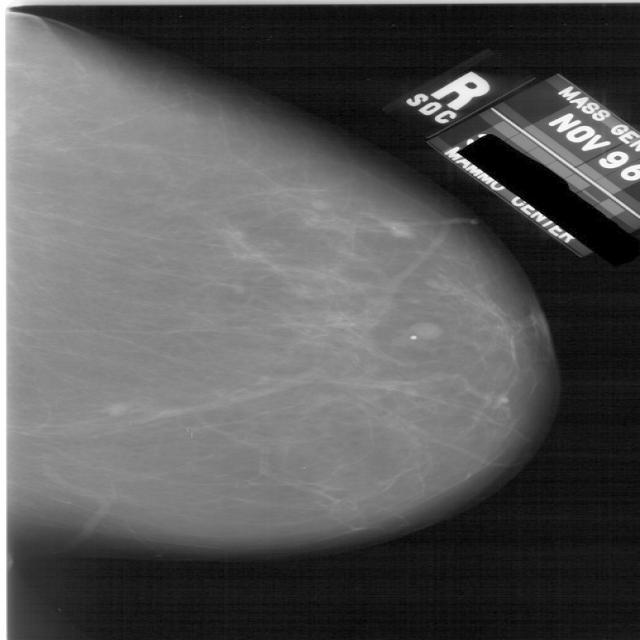tumour: (100, 400, 134, 414)
